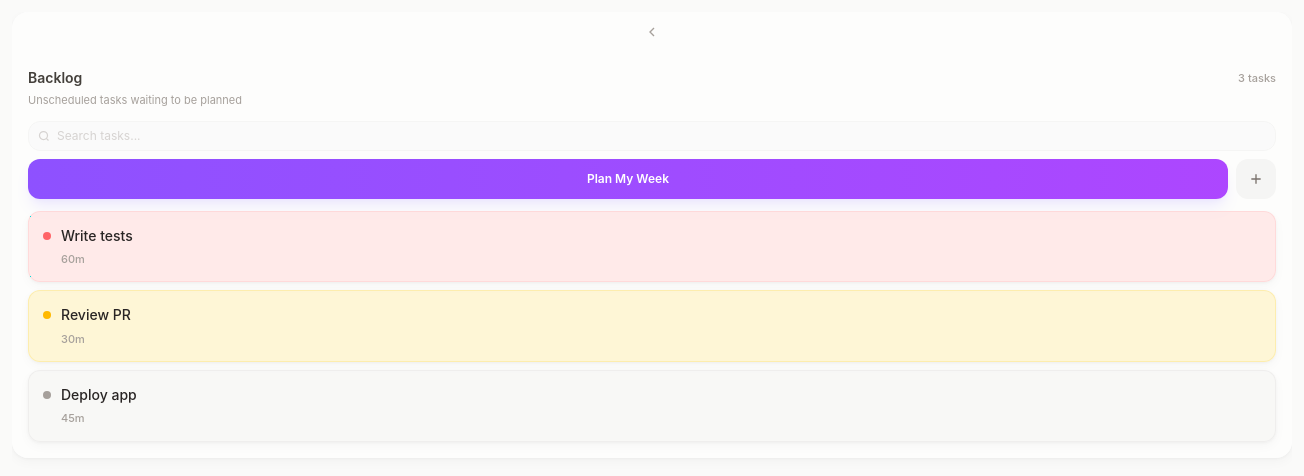
BacklogSidebar › filters tasks based on search query
In the field with placeholder "Search tasks...": (652,136) [28, 120, 1276, 150], type "write"
Wait 300 ms
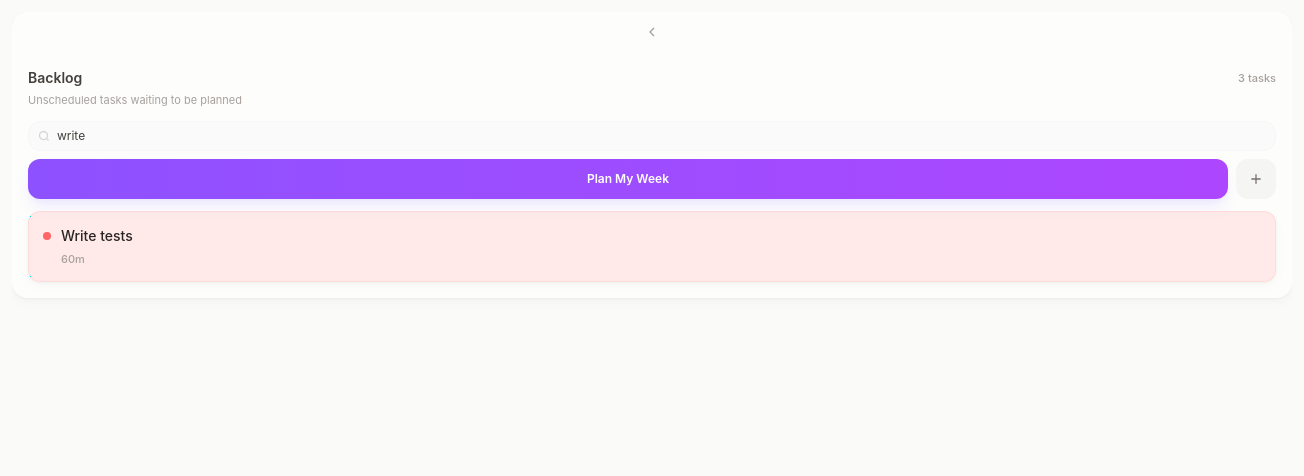
Check: the text "Write tests" is shown, box [61, 226, 133, 244]
Check: the text "Review PR" is gone
Check: the text "Deploy app" is gone
